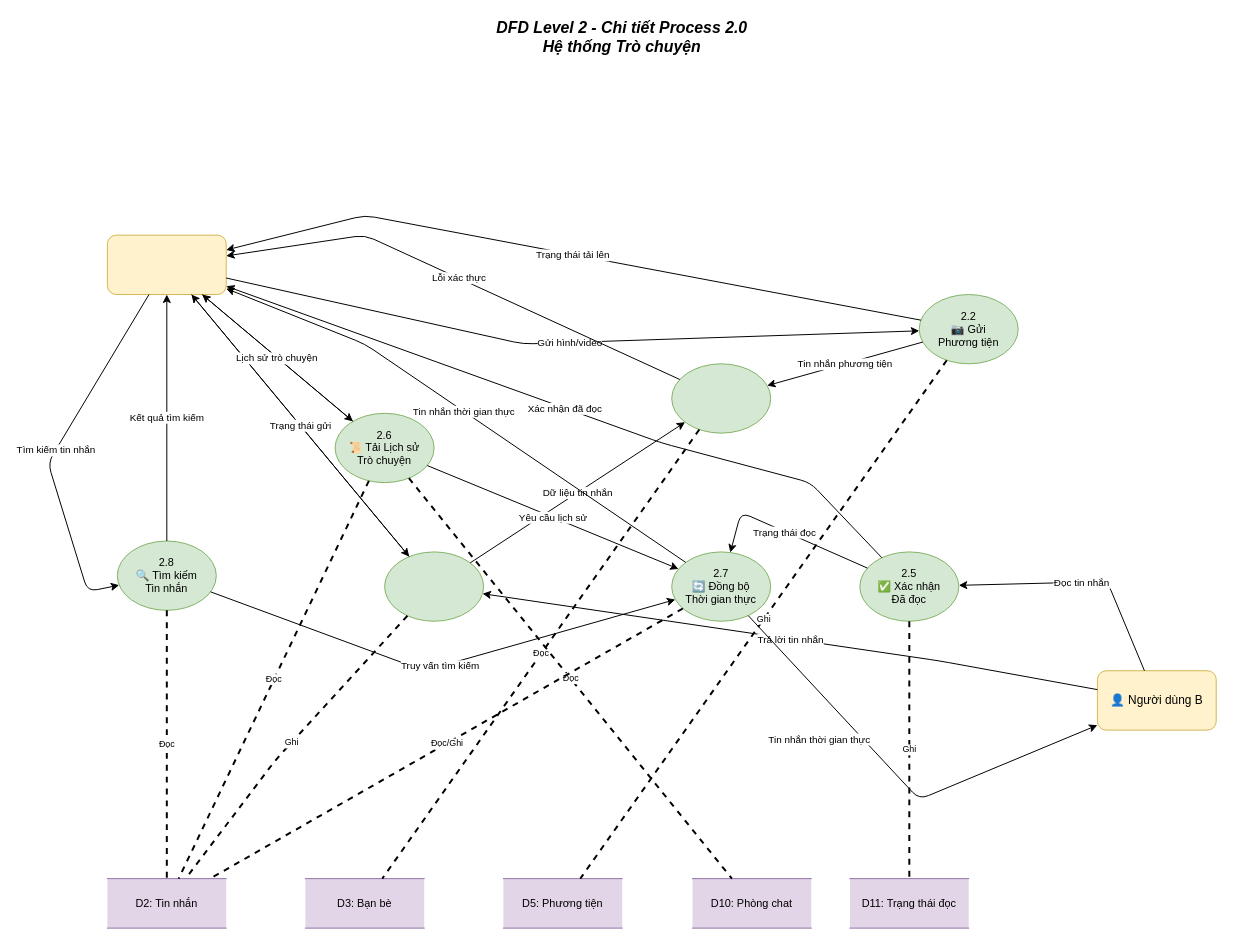
Image size: 1235x945. Some labels were removed from this diagram. Each missing label, with the centre of its shape:
"2.1 💬 Gửi Tin nhắn" belongs at point 434,586.
"2.3 🔍 Xác thực Tin nhắn" belongs at point 721,398.
"👤 Người dùng A" belongs at point 166,264.
